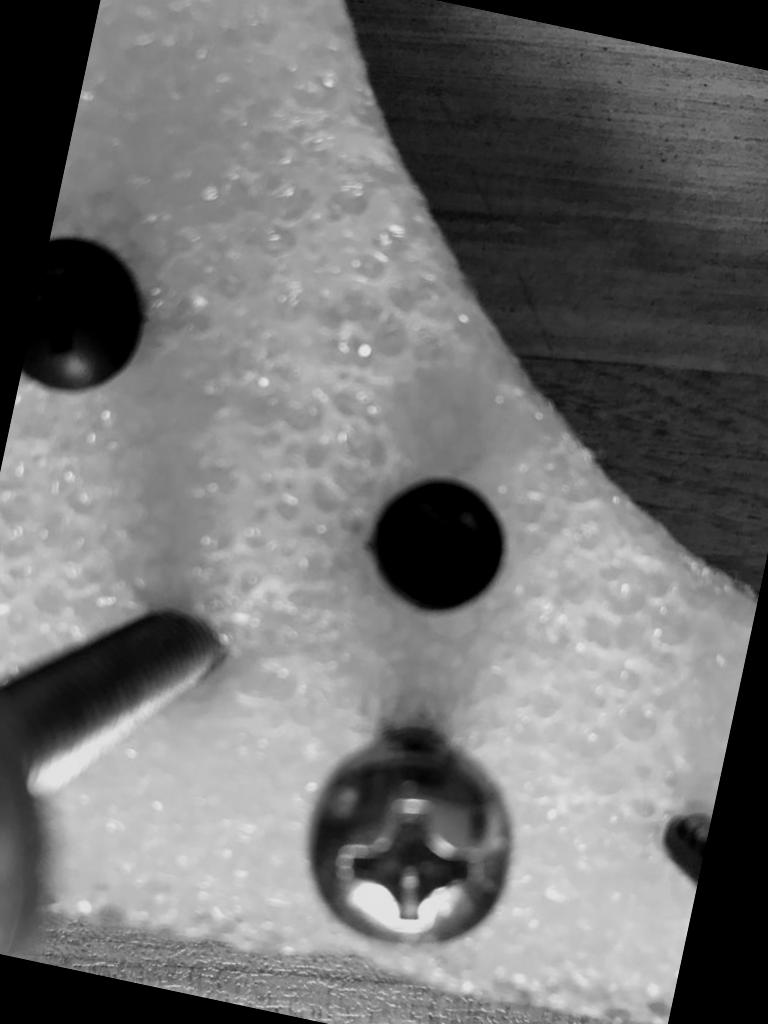screw: (295, 734, 528, 964), (18, 234, 154, 406), (362, 470, 515, 622)
